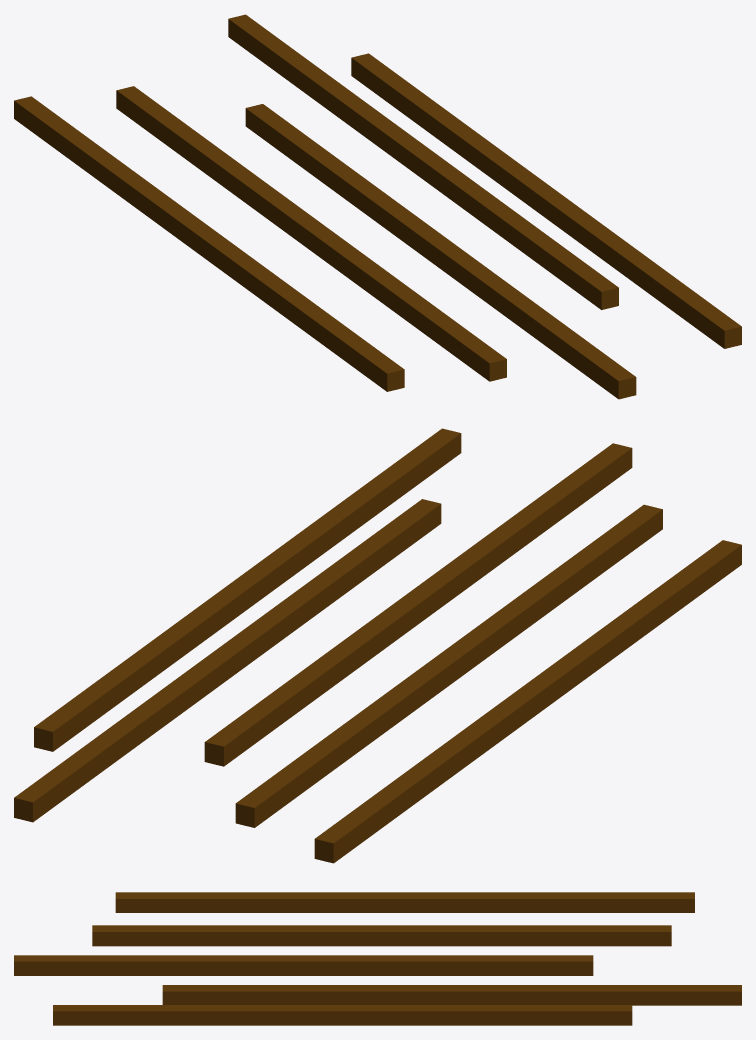
The model's file is inv_ogre_arrow_shaft.obj.
The picture shows the model from 3 angles, top to bottom: view 1: azimuth 30°, elevation 25°; view 2: azimuth 150°, elevation 25°; view 3: azimuth 270°, elevation 25°; orthographic projection. The views are drawn at different scales.
Size of the model in its own units: 0.2812 by 0.0156 by 0.7266.
